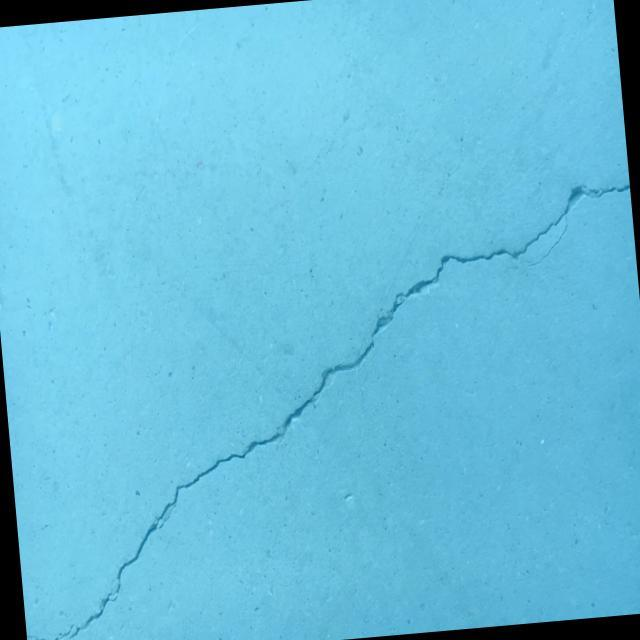crack: (0, 179, 640, 640)
